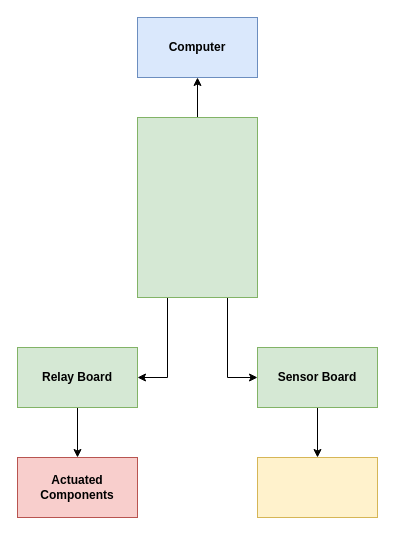
Some shapes in this 395 by 535 pixel diagram are drawn without their labels. The shapes that lost their labels are listed below. From the top down, each one's centre as x and y in pixels, then its label:
At (x=197, y=207): "DAQ Device".
At (x=317, y=487): "Sensors".
